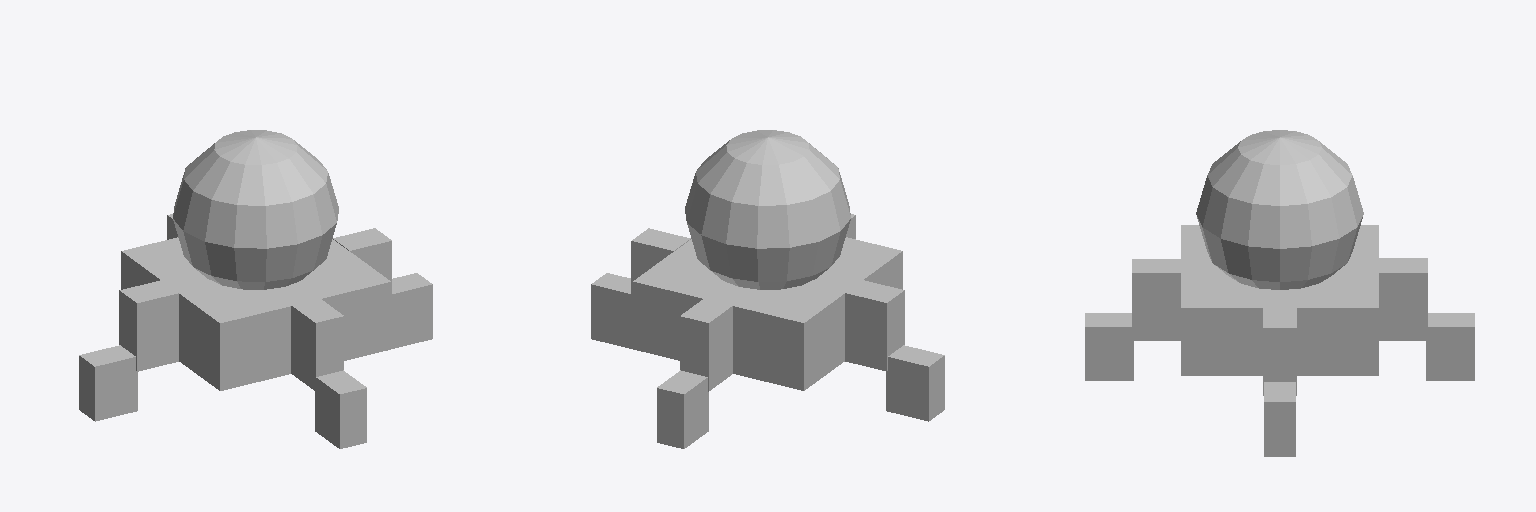
File: LunarLander.Collision.obj
3 renders of one model, left to right at view 1: azimuth 30°, elevation 25°; view 2: azimuth 150°, elevation 25°; view 3: azimuth 270°, elevation 25°, orthographic.
Parts seen in each view (by area): view 1: LunarLander.CompoundSphere.000, LunarLander.CompoundBox.000, LunarLander.CompoundBox.002, LunarLander.CompoundBox.003, LunarLander.CompoundBox.006, LunarLander.CompoundBox.007, LunarLander.CompoundBox.005, LunarLander.CompoundBox.001; view 2: LunarLander.CompoundSphere.000, LunarLander.CompoundBox.000, LunarLander.CompoundBox.002, LunarLander.CompoundBox.004, LunarLander.CompoundBox.006, LunarLander.CompoundBox.008, LunarLander.CompoundBox.005, LunarLander.CompoundBox.001; view 3: LunarLander.CompoundSphere.000, LunarLander.CompoundBox.000, LunarLander.CompoundBox.004, LunarLander.CompoundBox.003, LunarLander.CompoundBox.007, LunarLander.CompoundBox.008, LunarLander.CompoundBox.001, LunarLander.CompoundBox.005.
Boxes of the visible parts, x1=… form: LunarLander.CompoundSphere.000: x1=173, y1=130, x2=338, y2=289; LunarLander.CompoundBox.000: x1=121, y1=237, x2=390, y2=390; LunarLander.CompoundBox.002: x1=119, y1=280, x2=178, y2=371; LunarLander.CompoundBox.003: x1=291, y1=298, x2=343, y2=391; LunarLander.CompoundBox.006: x1=79, y1=345, x2=137, y2=421; LunarLander.CompoundBox.007: x1=315, y1=370, x2=366, y2=448; LunarLander.CompoundBox.005: x1=391, y1=273, x2=432, y2=348; LunarLander.CompoundBox.001: x1=333, y1=228, x2=391, y2=308; LunarLander.CompoundSphere.000: x1=685, y1=130, x2=850, y2=289; LunarLander.CompoundBox.000: x1=633, y1=237, x2=902, y2=390; LunarLander.CompoundBox.002: x1=845, y1=280, x2=904, y2=371; LunarLander.CompoundBox.004: x1=680, y1=298, x2=732, y2=391; LunarLander.CompoundBox.006: x1=886, y1=345, x2=944, y2=421; LunarLander.CompoundBox.008: x1=657, y1=370, x2=708, y2=448; LunarLander.CompoundBox.005: x1=591, y1=273, x2=632, y2=348; LunarLander.CompoundBox.001: x1=631, y1=228, x2=690, y2=309; LunarLander.CompoundSphere.000: x1=1196, y1=130, x2=1363, y2=289; LunarLander.CompoundBox.000: x1=1181, y1=225, x2=1378, y2=375; LunarLander.CompoundBox.004: x1=1379, y1=258, x2=1427, y2=340; LunarLander.CompoundBox.003: x1=1132, y1=259, x2=1180, y2=340; LunarLander.CompoundBox.007: x1=1085, y1=313, x2=1133, y2=380; LunarLander.CompoundBox.008: x1=1426, y1=313, x2=1474, y2=380; LunarLander.CompoundBox.001: x1=1263, y1=307, x2=1296, y2=395; LunarLander.CompoundBox.005: x1=1264, y1=382, x2=1295, y2=456.
Size of the model in its own units: 1.36 by 0.9131 by 1.36.